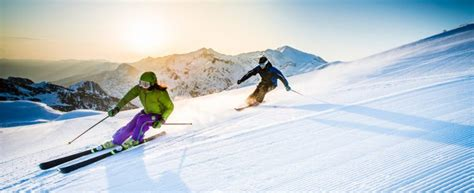skier: (31, 70, 195, 183), (226, 49, 321, 115)
